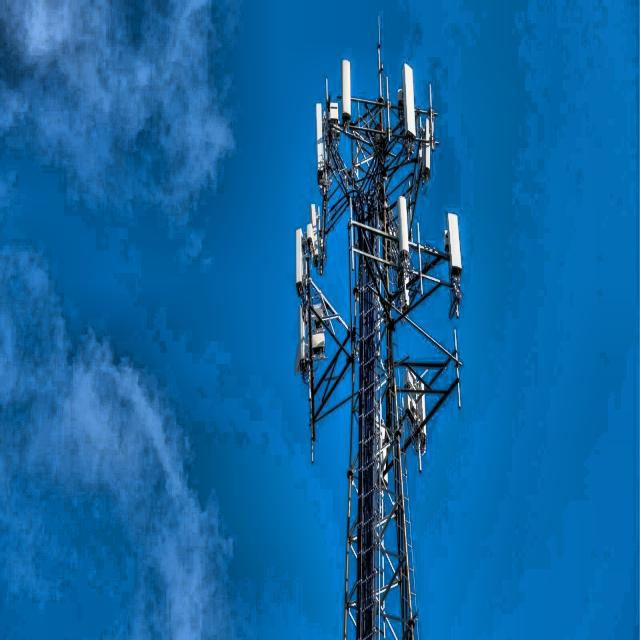antenna: (404, 369, 426, 469), (445, 212, 461, 291), (296, 304, 311, 380), (401, 64, 415, 137), (306, 203, 320, 265), (315, 102, 324, 182), (421, 114, 432, 179), (295, 228, 305, 294), (341, 59, 351, 120)
